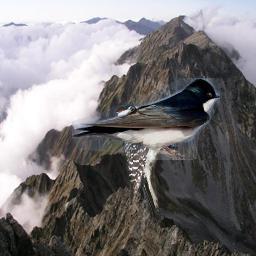Swallow: (72, 78, 220, 160)
Woodpecker: (110, 102, 167, 221)
